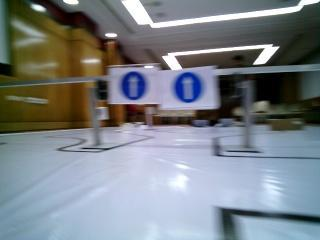straight: (164, 72, 220, 109), (109, 66, 161, 105)
